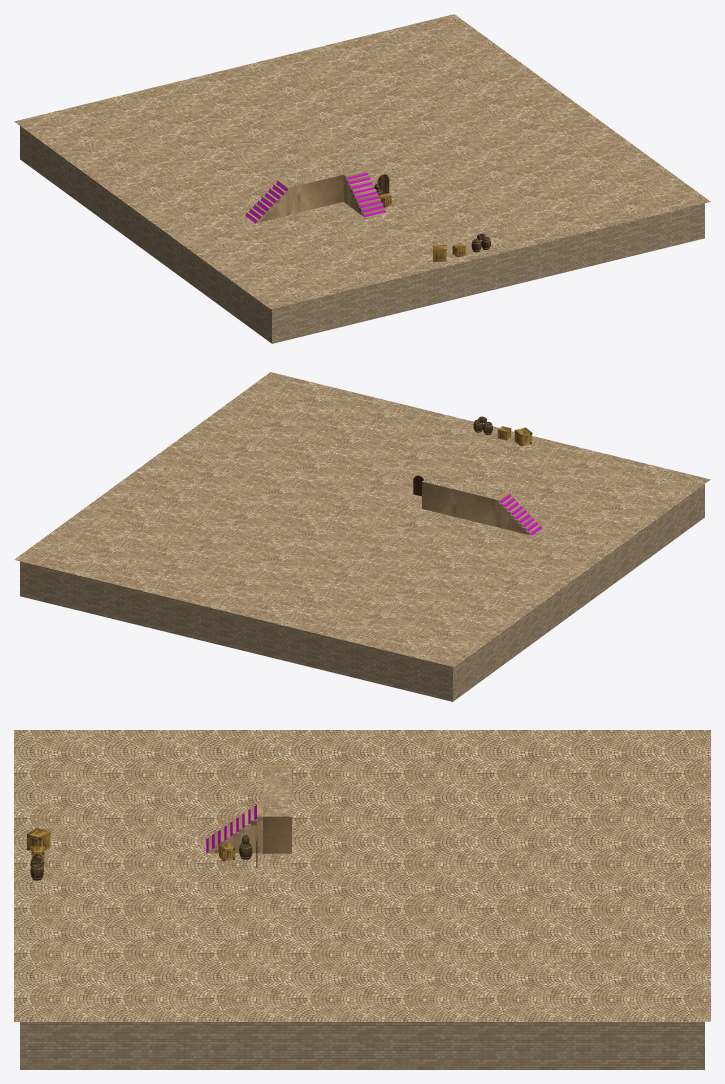
The model's file is medseaport1b-techdemo.obj.
The picture shows the model from 3 angles, top to bottom: view 1: azimuth 30°, elevation 25°; view 2: azimuth 150°, elevation 25°; view 3: azimuth 270°, elevation 25°; orthographic projection. The views are drawn at different scales.
Visible parts, largest first — view 1: Walkway.179_Cube.022, Foundation.1404_Cube.1752, WallAlternate.000_Plane.033, walkmesh_Plane.228, Steps.214_Cube.2034, Walkway.194_Plane.005, Steps.215_Cube.2035; view 2: Walkway.179_Cube.022, Foundation.1404_Cube.1752, WallAlternate.055_Plane.056, Walkway.194_Plane.005, Steps.215_Cube.2035; view 3: Walkway.179_Cube.022, Foundation.1404_Cube.1752, Walkway.194_Plane.005, WallAlternate.055_Plane.056, Steps.214_Cube.2034, Wall,Staircase.033_Plane.036.
Part boxes in pixels (x1,y1,x2,y2): Walkway.179_Cube.022: (14,14,710,309); Foundation.1404_Cube.1752: (20,126,704,343); WallAlternate.000_Plane.033: (291,174,343,214); walkmesh_Plane.228: (245,173,385,223); Steps.214_Cube.2034: (343,169,385,216); Walkway.194_Plane.005: (281,161,364,187); Steps.215_Cube.2035: (246,179,291,222); Walkway.179_Cube.022: (14,372,710,667); Foundation.1404_Cube.1752: (20,484,704,701); WallAlternate.055_Plane.056: (422,481,495,526); Walkway.194_Plane.005: (422,474,505,499); Steps.215_Cube.2035: (495,491,540,535); Walkway.179_Cube.022: (14,730,710,1021); Foundation.1404_Cube.1752: (20,1022,704,1069); Walkway.194_Plane.005: (263,768,291,816); WallAlternate.055_Plane.056: (263,816,291,853); Steps.214_Cube.2034: (208,802,262,853); Wall,Staircase.033_Plane.036: (215,821,262,853).
Size of what is drawn, in the model's own units: 60 by 8.4 by 60.53.
Materials: 6 (5 with a texture image).
